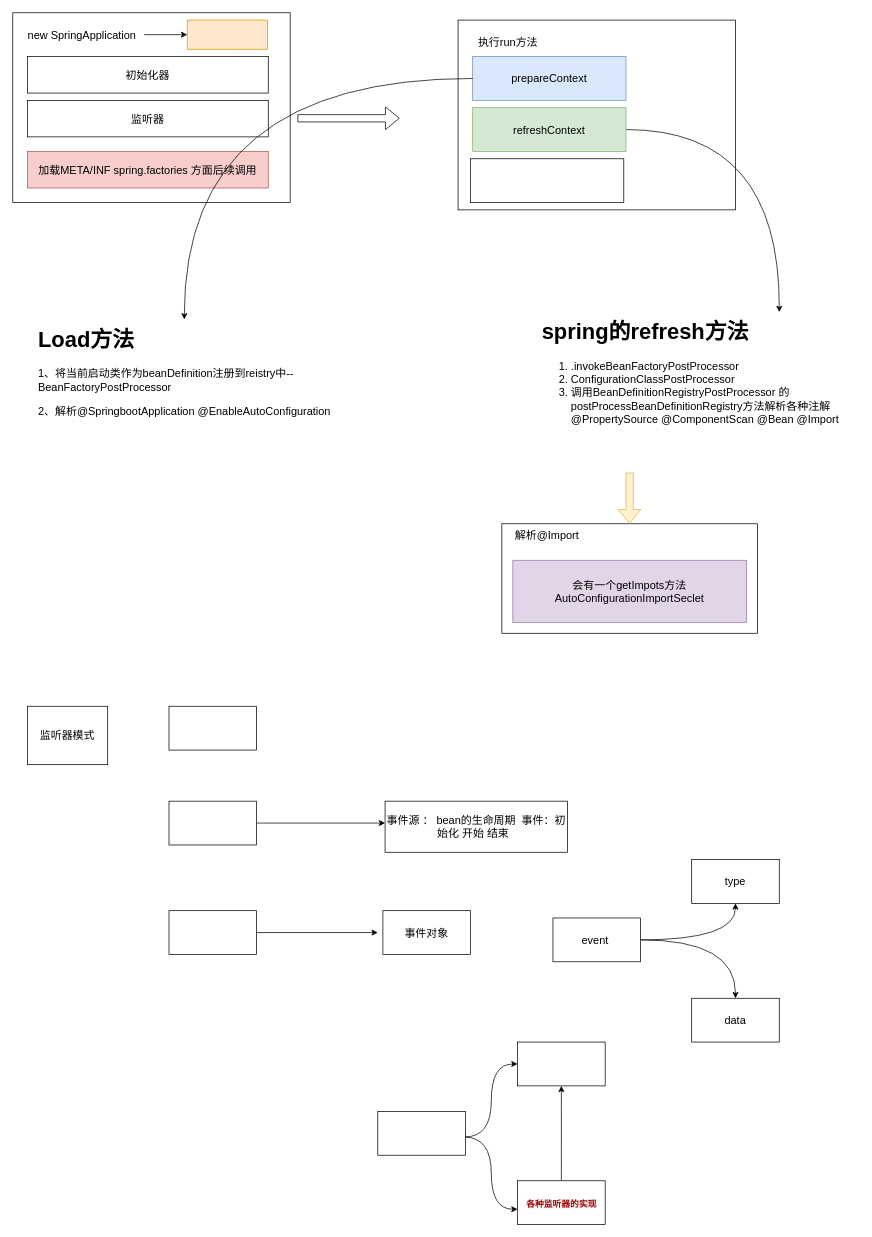
This 872x1237 diagram has some shape labels left out. The shapes that lost their labels are listed below. From the top down, each one's centre as x and y in pixels, then its label:
At pixel 227 34: "做一些初始化".
At pixel 547 180: "打印banner".
At pixel 212 728: "开始的时候肯定要初始化监听器".
At pixel 212 822: "被观察的东西".
At pixel 212 932: "去观察的东西".
At pixel 561 1063: "Listener 接口".
At pixel 421 1133: "监听器对象".
